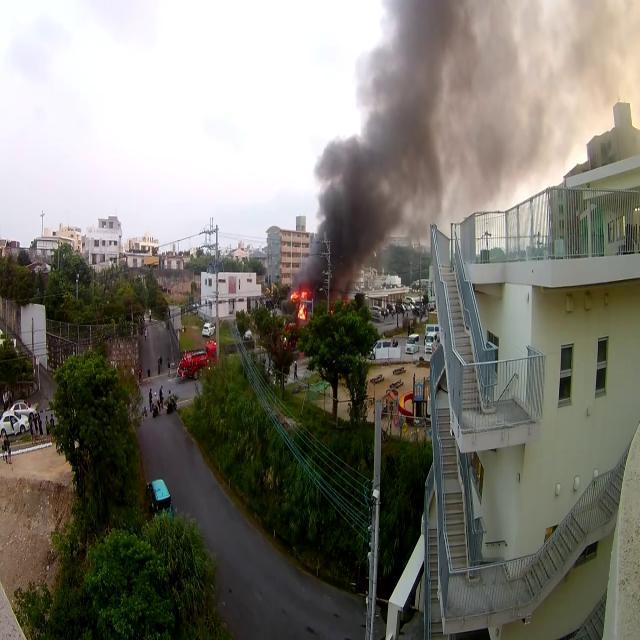Fire: (288, 289, 312, 321)
Smoke: (280, 7, 636, 322)
